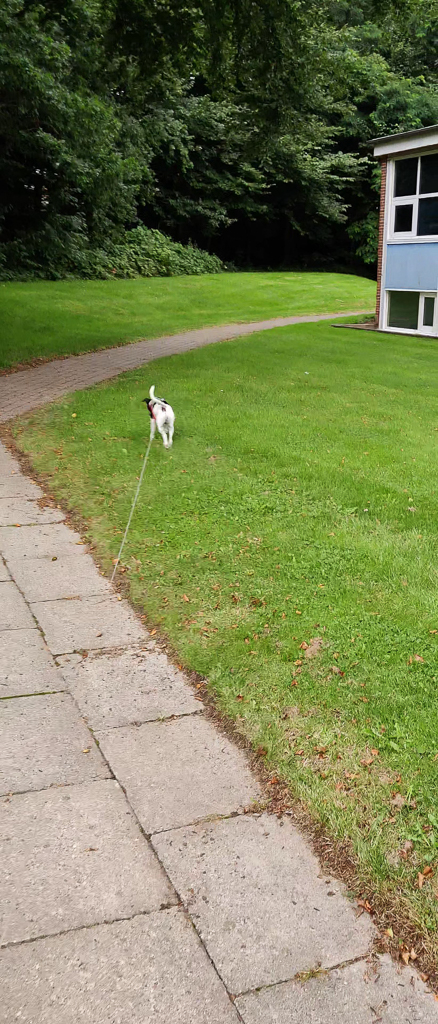Dog: (135, 380, 187, 454)
